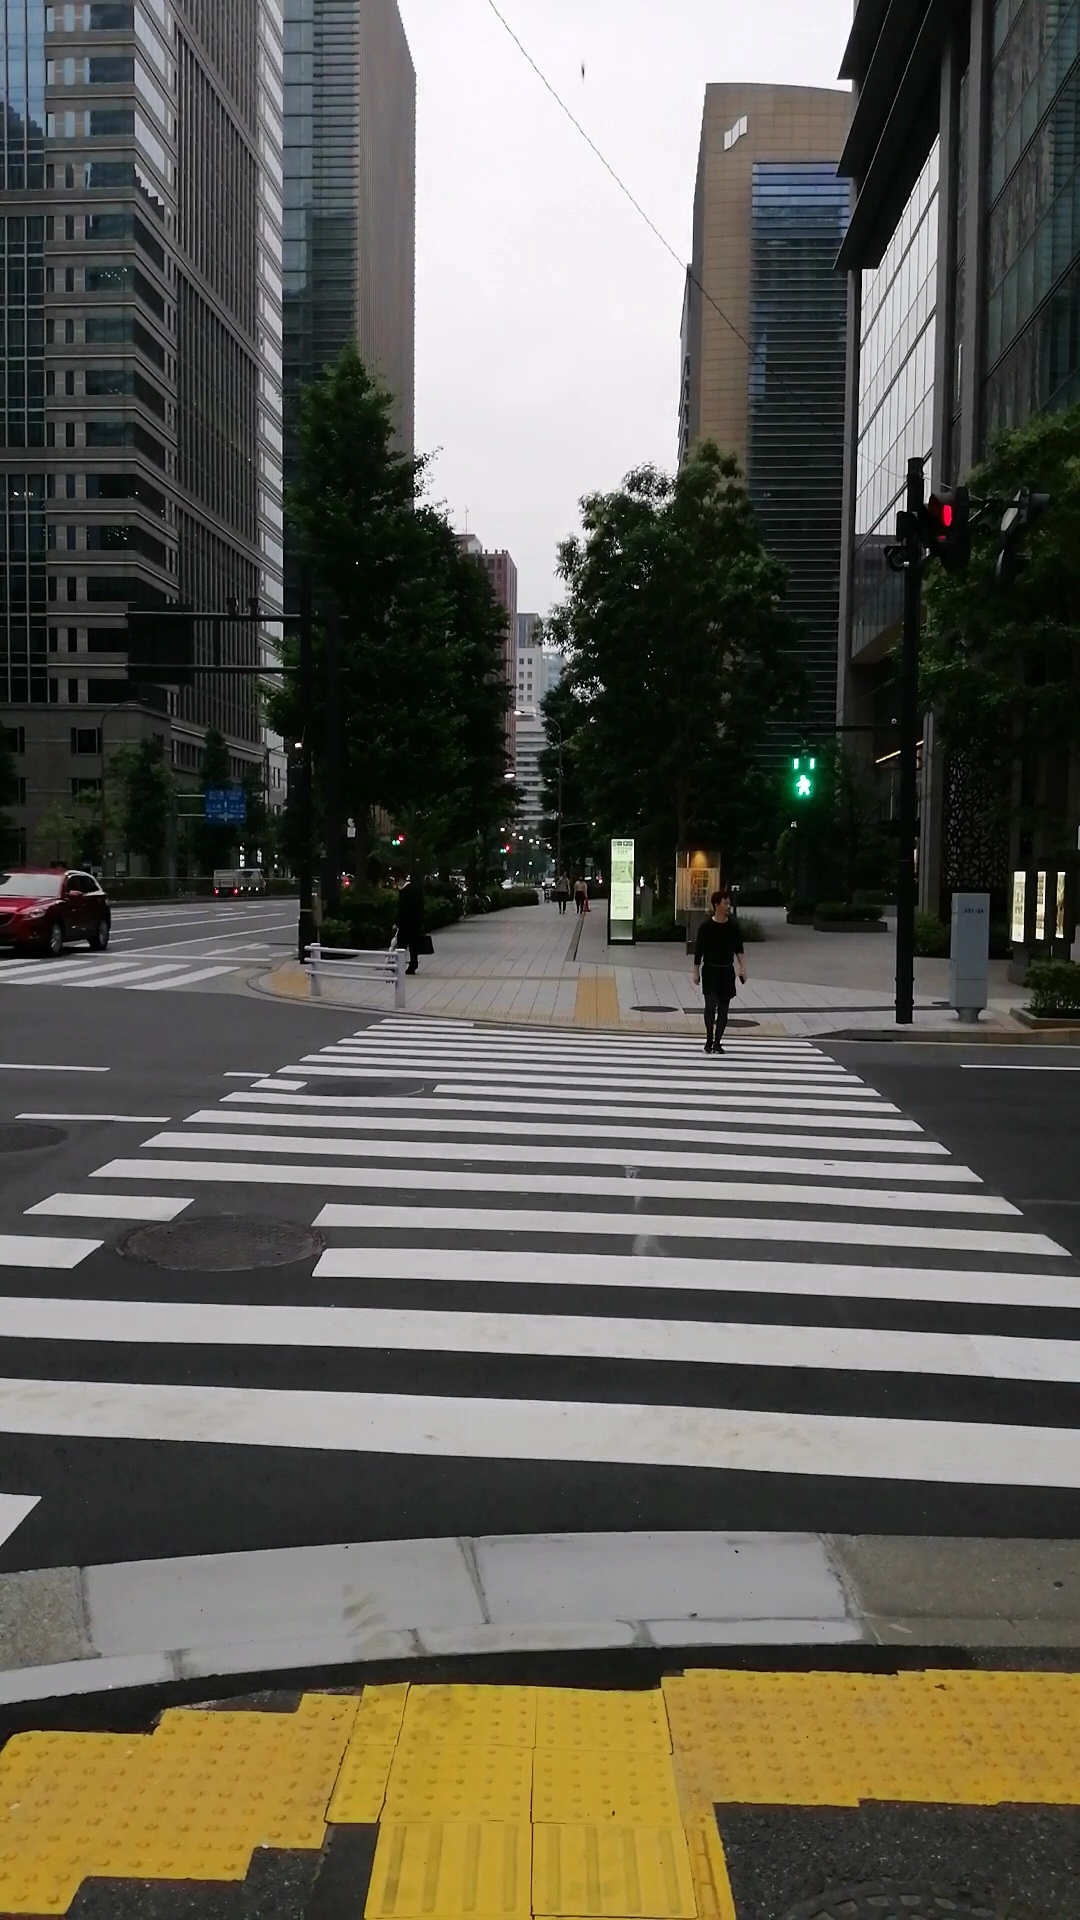green: (787, 745, 819, 802)
